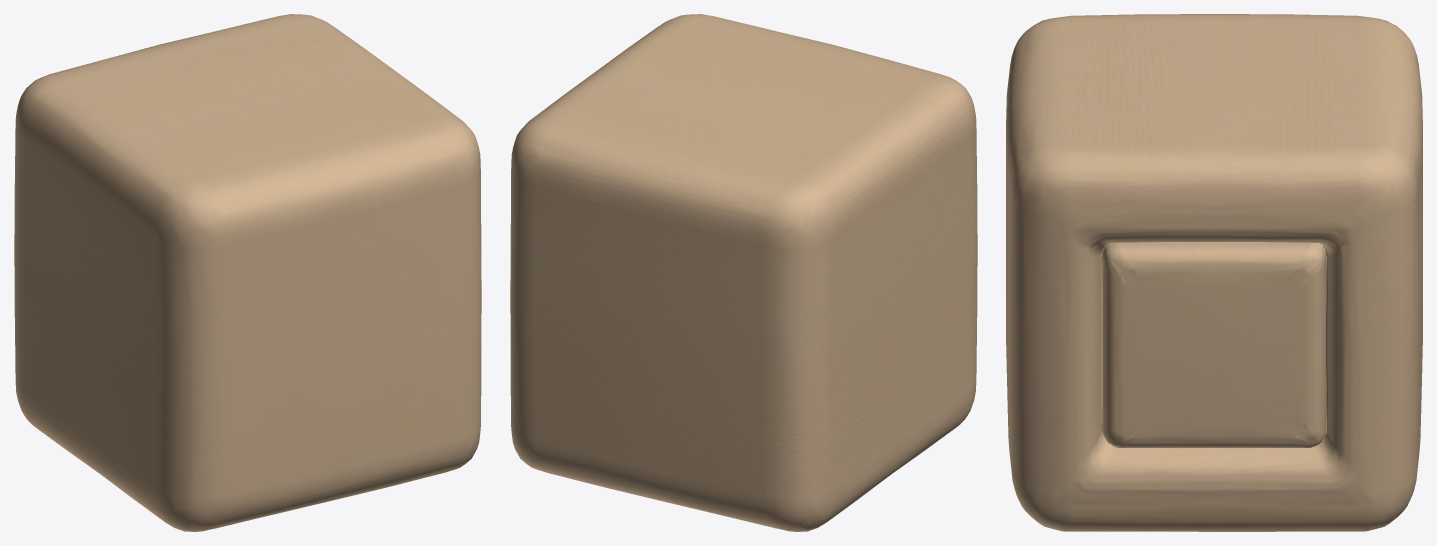
Rendered from original_glb.glb.
3 views of the same model, side by side, from view 1: azimuth 30°, elevation 25°; view 2: azimuth 150°, elevation 25°; view 3: azimuth 270°, elevation 25° (orthographic). The views are drawn at different scales.
Parts seen in each view (by area): view 1: Rounded Oak Toy Block; view 2: Rounded Oak Toy Block; view 3: Rounded Oak Toy Block.
Part boxes in pixels (x1,y1,x2,y2): Rounded Oak Toy Block: (14, 14, 481, 531); Rounded Oak Toy Block: (510, 14, 977, 531); Rounded Oak Toy Block: (1006, 14, 1422, 531).
Bounding box in the file's own units: 0.959 × 0.998 × 0.998.
1 material, 1 textured.
